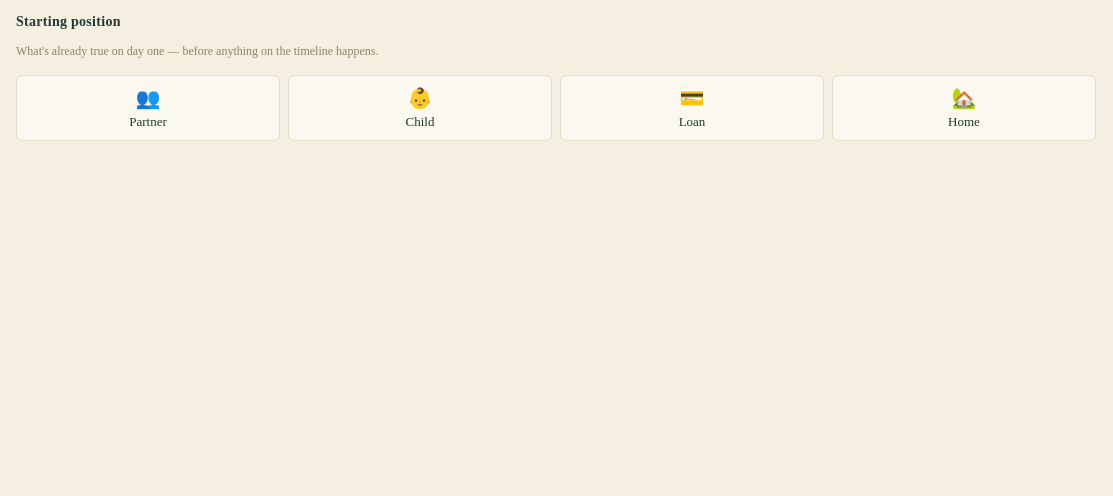
Scenario: StartingPositionPanel — accordion › opening a second item closes the first
This screenshot has width=1113, height=496.
Click the button "💳 Loan" at coordinates (692, 108), box 560,75 -> 824,141
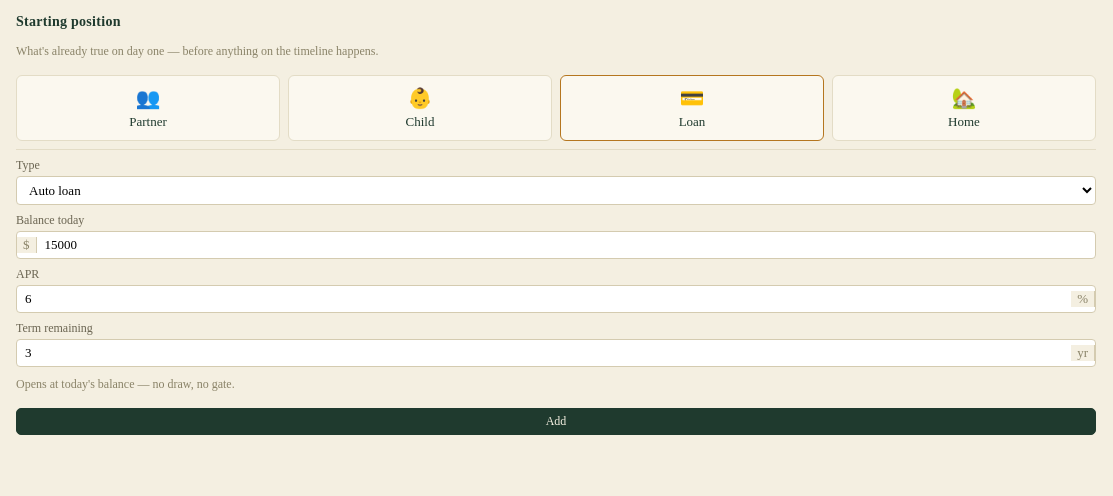
Expected: the dropdown labelled "Type" is shown, 16,176 -> 1096,205
Click the button "🏡 Home" at coordinates (964, 108), box 832,75 -> 1096,141
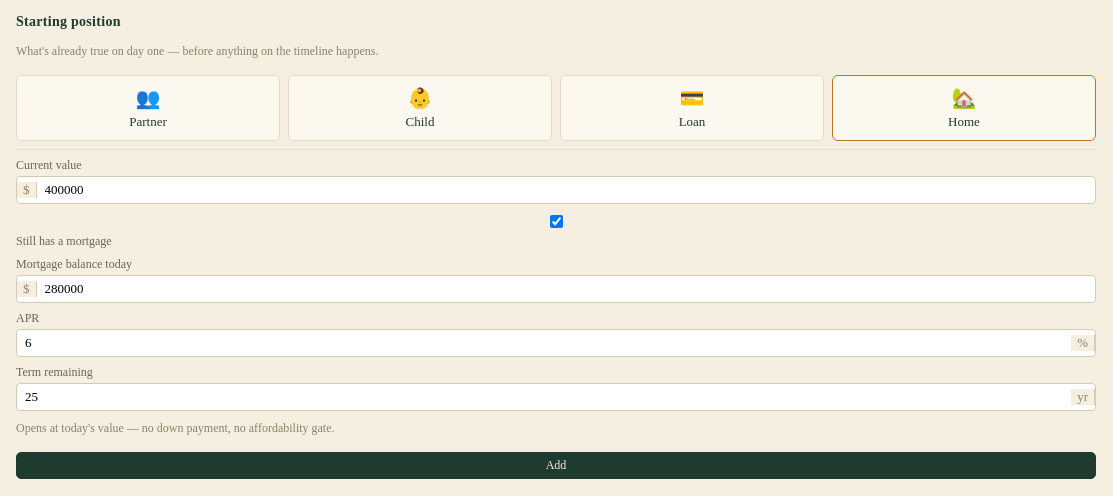
Expected: the number field labelled "Current value $" is shown, 36,177 -> 1095,203
Expected: the text "Type" is gone
